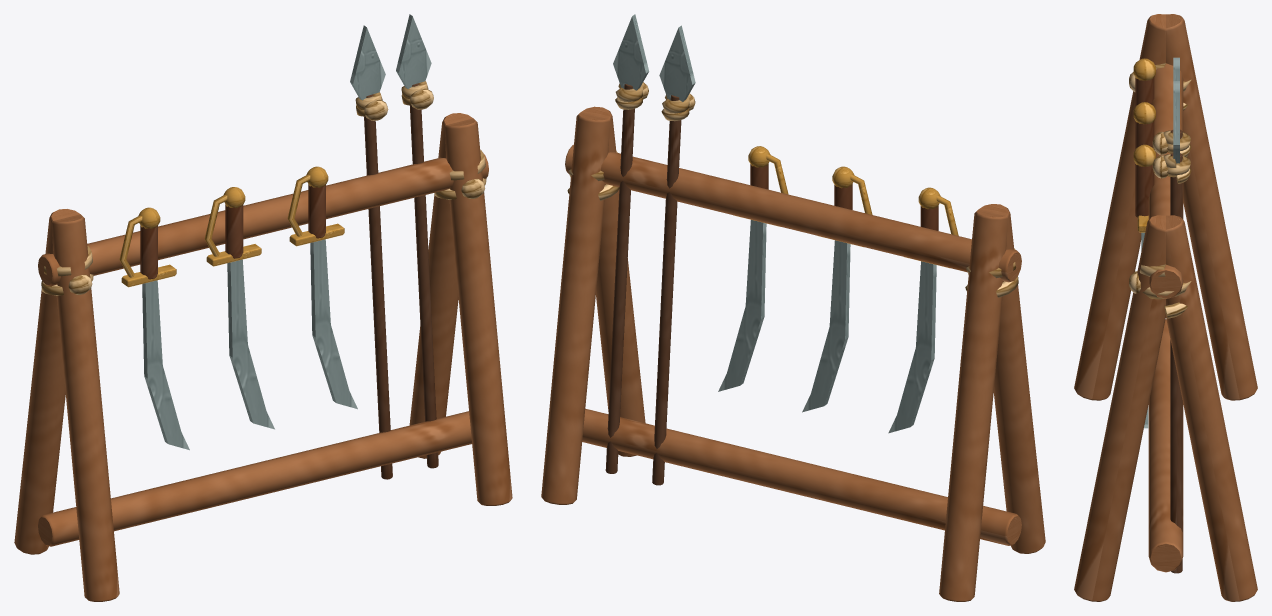
Rendered from SM_WeaponRack.glb.
3 renders of one model, left to right at view 1: azimuth 30°, elevation 25°; view 2: azimuth 150°, elevation 25°; view 3: azimuth 270°, elevation 25°, orthographic. The views are drawn at different scales.
Visible parts, largest first — view 1: SM_WeaponRack; view 2: SM_WeaponRack; view 3: SM_WeaponRack.
Boxes of the visible parts, x1,y1,x2,y2 form: SM_WeaponRack: (14,14,512,601); SM_WeaponRack: (541,14,1045,601); SM_WeaponRack: (1074,14,1257,601).
Bounding box in the file's own units: 2.01 × 2.06 × 0.6948.
1 material, 1 textured.
